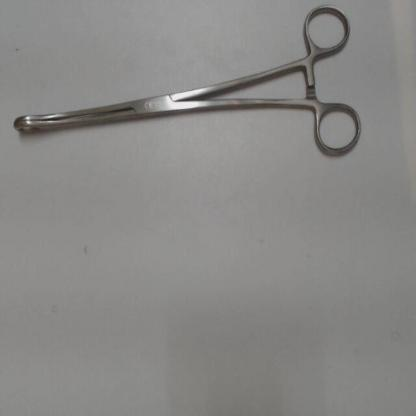Sponge Forceps: (5, 1, 369, 170)
